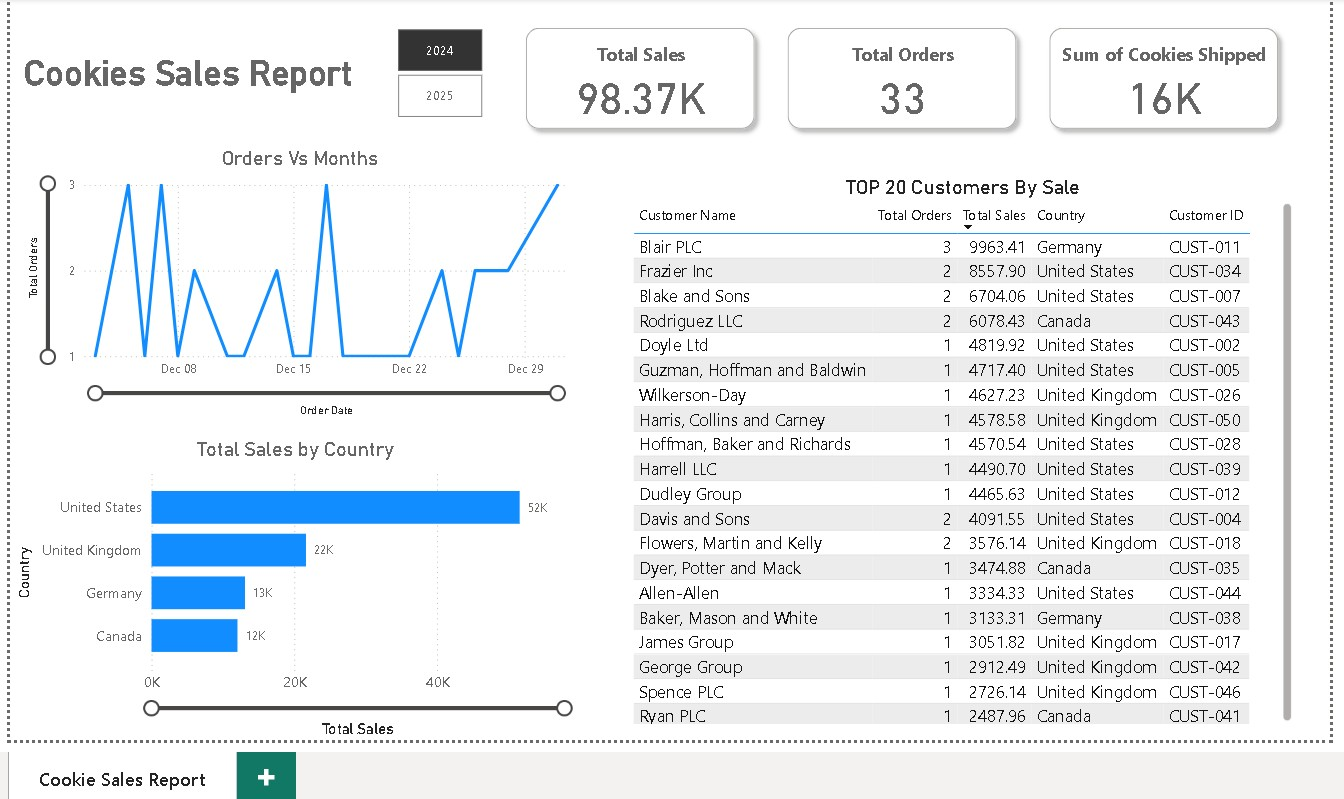

This screenshot's page, from the dashboard's own definition file:
{"tool":"powerbi","page":{"name":"Cookie Sales Report","canvas":[1280,720],"ordinal":0},"visuals":[{"type":"lineChart","title":"Orders Vs Months","fields":{"Y":["_Measures.Total Orders"],"Category":["Orders.Order Date.Variation.Date Hierarchy.Year"]},"box":[8.1,144.1,545.7,267.2],"z":0},{"type":"cardVisual","fields":{"Data":["_Measures.Total Sales","_Measures.Total Orders","Sum(Orders.Cookies Shipped)"]},"box":[482.5,11.3,765.9,132.8],"z":1000},{"type":"barChart","fields":{"Category":["Customers.Country"],"Y":["_Measures.Total Sales"]},"box":[0,425.9,553.8,294.7],"z":2000},{"type":"tableEx","title":"TOP 20 Customers By Sale","fields":{"Values":["Customers.Customer Name","_Measures.Total Orders","_Measures.Total Sales","Customers.Country","Customers.Customer ID"]},"box":[599.1,171.6,649.3,537.6],"z":3000},{"type":"slicer","fields":{"Values":["Dim_Date.Date.Variation.Date Hierarchy.Year"]},"box":[351.4,22.7,131.2,98.8],"z":4000},{"type":"textbox","box":[8.1,48.6,343.3,72.9],"z":5000}]}

Visuals, with their boxes on the page's 1280x720 design canvas (x1, y1, x2, y2). These are canvas units, not pixel positions in the 1344x799 screenshot, which may show the page scaled, cropped or inside an application window:
"Orders Vs Months" lineChart: [left=8, top=144, right=554, bottom=411]
cardVisual - _Measures.Total Sales x _Measures.Total Orders: [left=482, top=11, right=1248, bottom=144]
barChart - Customers.Country x _Measures.Total Sales: [left=0, top=426, right=554, bottom=721]
"TOP 20 Customers By Sale" tableEx: [left=599, top=172, right=1248, bottom=709]
slicer - Dim_Date.Date.Variation.Date Hierarchy.Year: [left=351, top=23, right=483, bottom=122]
textbox: [left=8, top=49, right=351, bottom=122]
